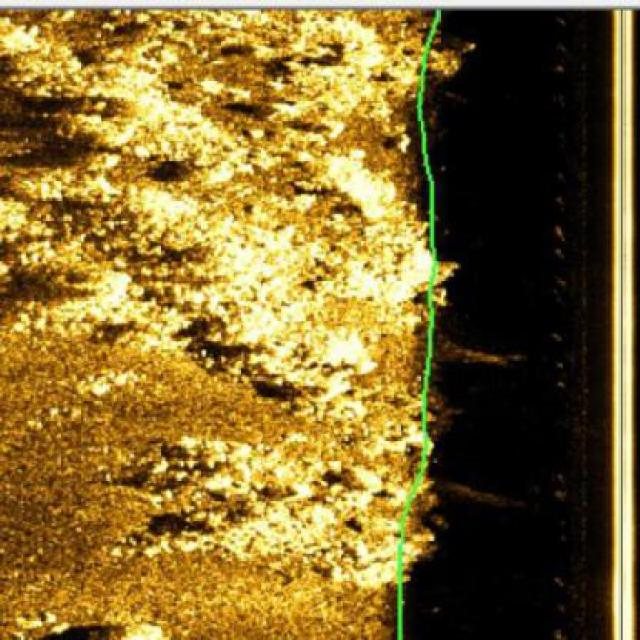bedrock group: (0, 6, 460, 639)
